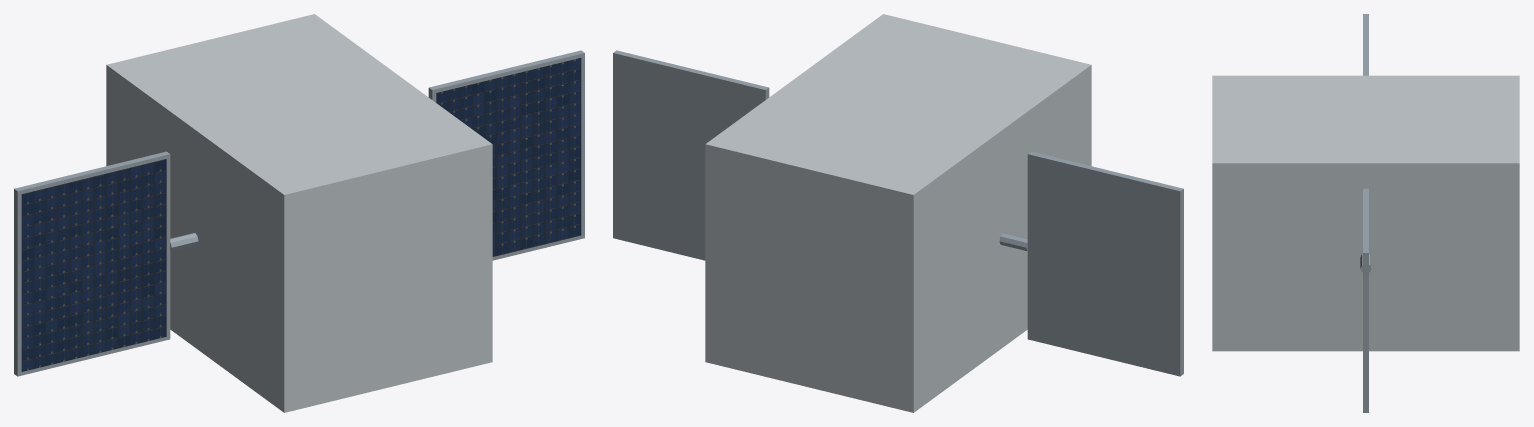
File: ref-isac-41949.glb
The picture shows the model from 3 angles, left to right: view 1: azimuth 30°, elevation 25°; view 2: azimuth 150°, elevation 25°; view 3: azimuth 270°, elevation 25°; orthographic projection. The views are drawn at different scales.
Parts seen in each view (by area): view 1: Spacecraft body, Photovoltaic laminates (×2), Array frame (×2); view 2: Spacecraft body, Array frame (×2); view 3: Spacecraft body, Array frame (×2).
Part boxes in pixels (x1,y1,x2,y2): Spacecraft body: [106, 14, 492, 412]; Photovoltaic laminates (×2): [21, 58, 581, 371]; Array frame (×2): [14, 50, 584, 376]; Spacecraft body: [705, 14, 1091, 412]; Array frame (×2): [613, 50, 1183, 376]; Spacecraft body: [1212, 75, 1519, 351]; Array frame (×2): [1363, 14, 1368, 412].
Bounding box in the file's own units: 0.67 × 0.246 × 0.364.
3 materials, 1 textured.
